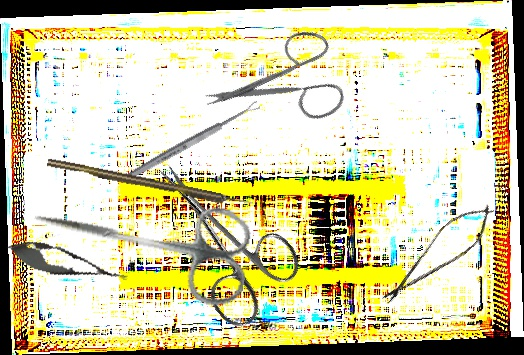Hook Surgical: (46, 156, 254, 211)
Iris Scissors: (124, 137, 312, 334), (24, 172, 258, 311), (199, 1, 368, 172)
Micro Scissor: (373, 193, 504, 316), (3, 232, 132, 294)
Surgical Spoon: (124, 100, 262, 182)
